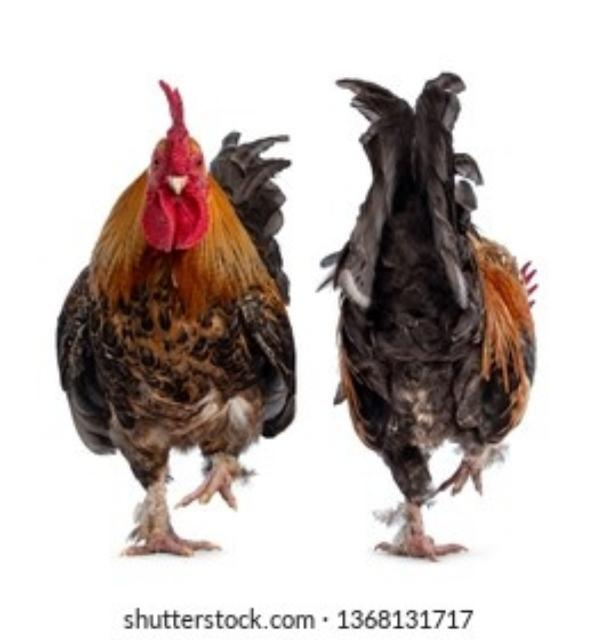Chicken: (55, 80, 294, 557), (315, 73, 539, 561)
